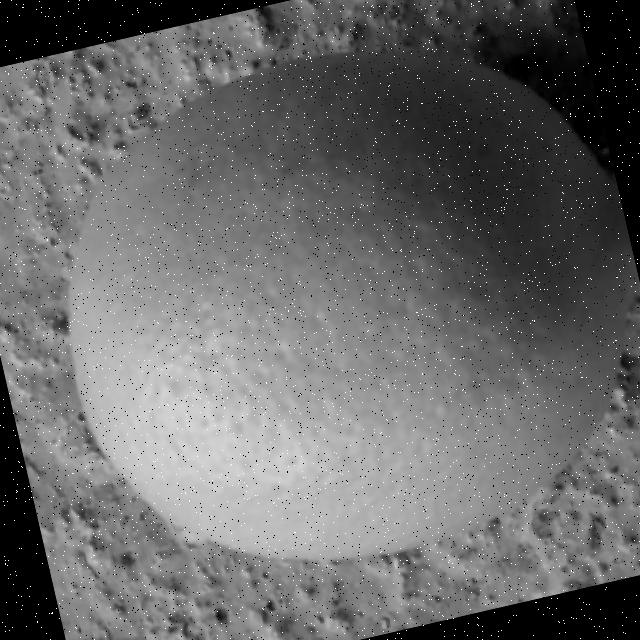Ripe: (11, 0, 640, 620)
